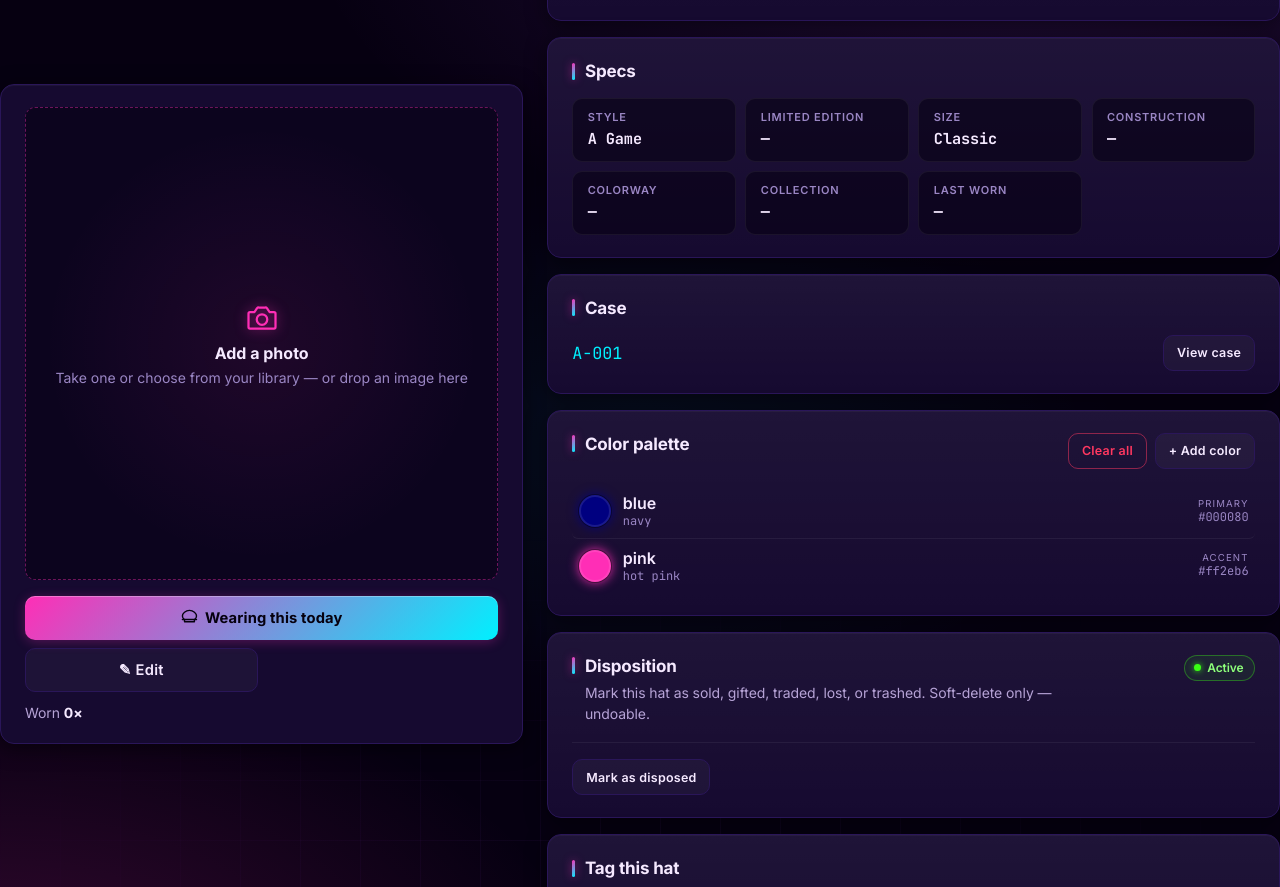
Test case: HatDetailPage — clear the palette › puts the colors back and says why when the clear fails
(page scrolled)
Click the button "Clear all".
click(1107, 451)  # box left=1068, top=433, right=1147, bottom=469
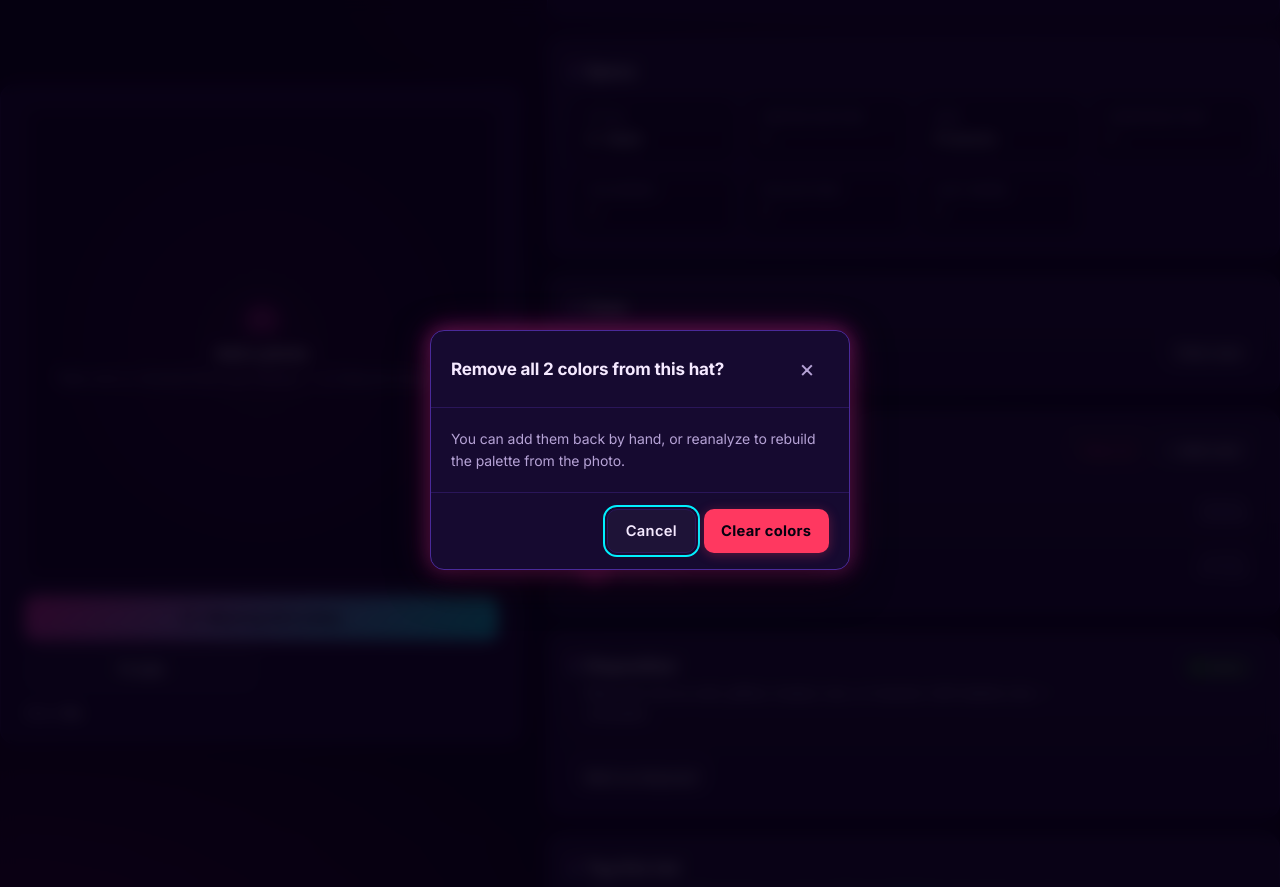
Click the button "Clear colors".
click(766, 531)  # box left=704, top=509, right=829, bottom=553
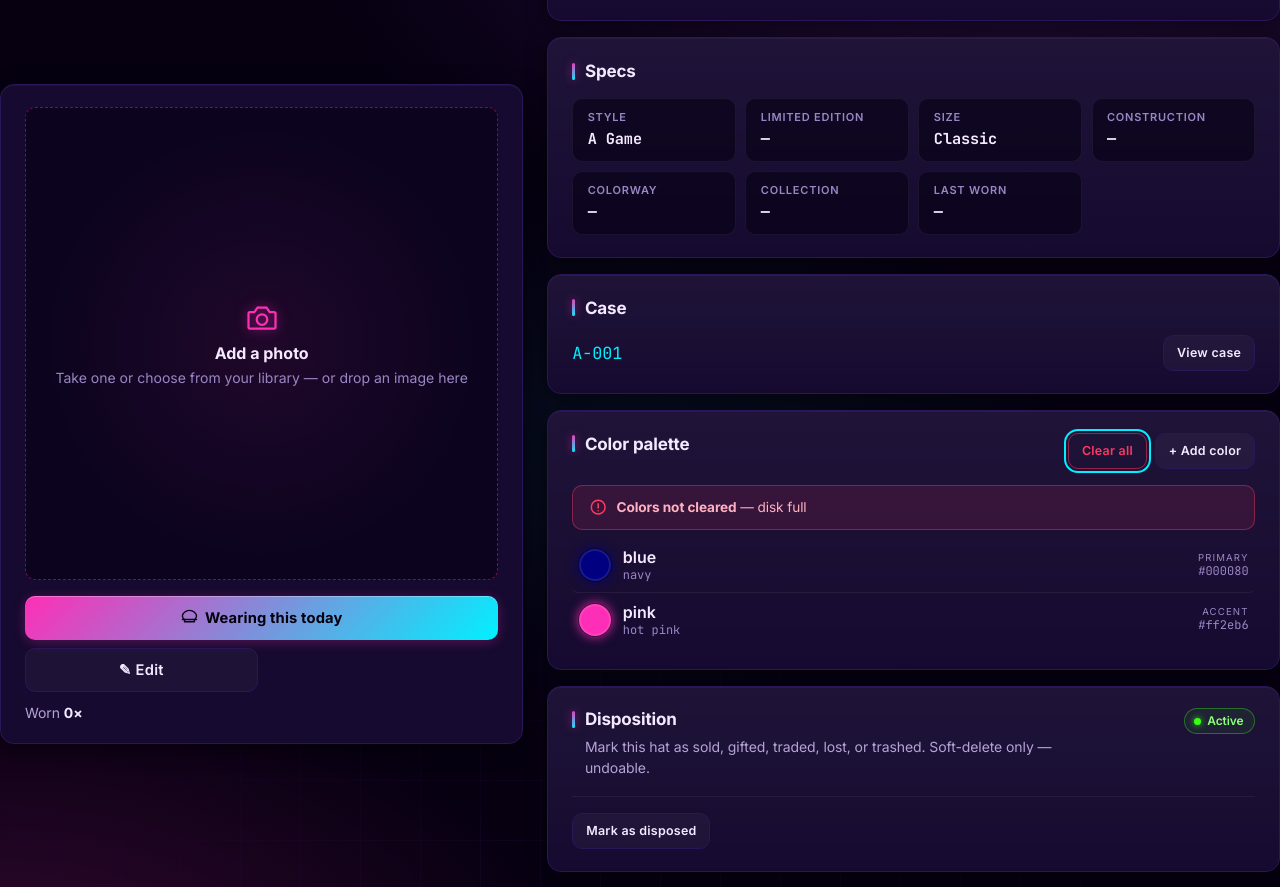
Check: the text "blue" is shown, box left=623, top=547, right=656, bottom=567
Check: the text "Colors not cleared — disk full" is shown, box left=616, top=498, right=806, bottom=517
